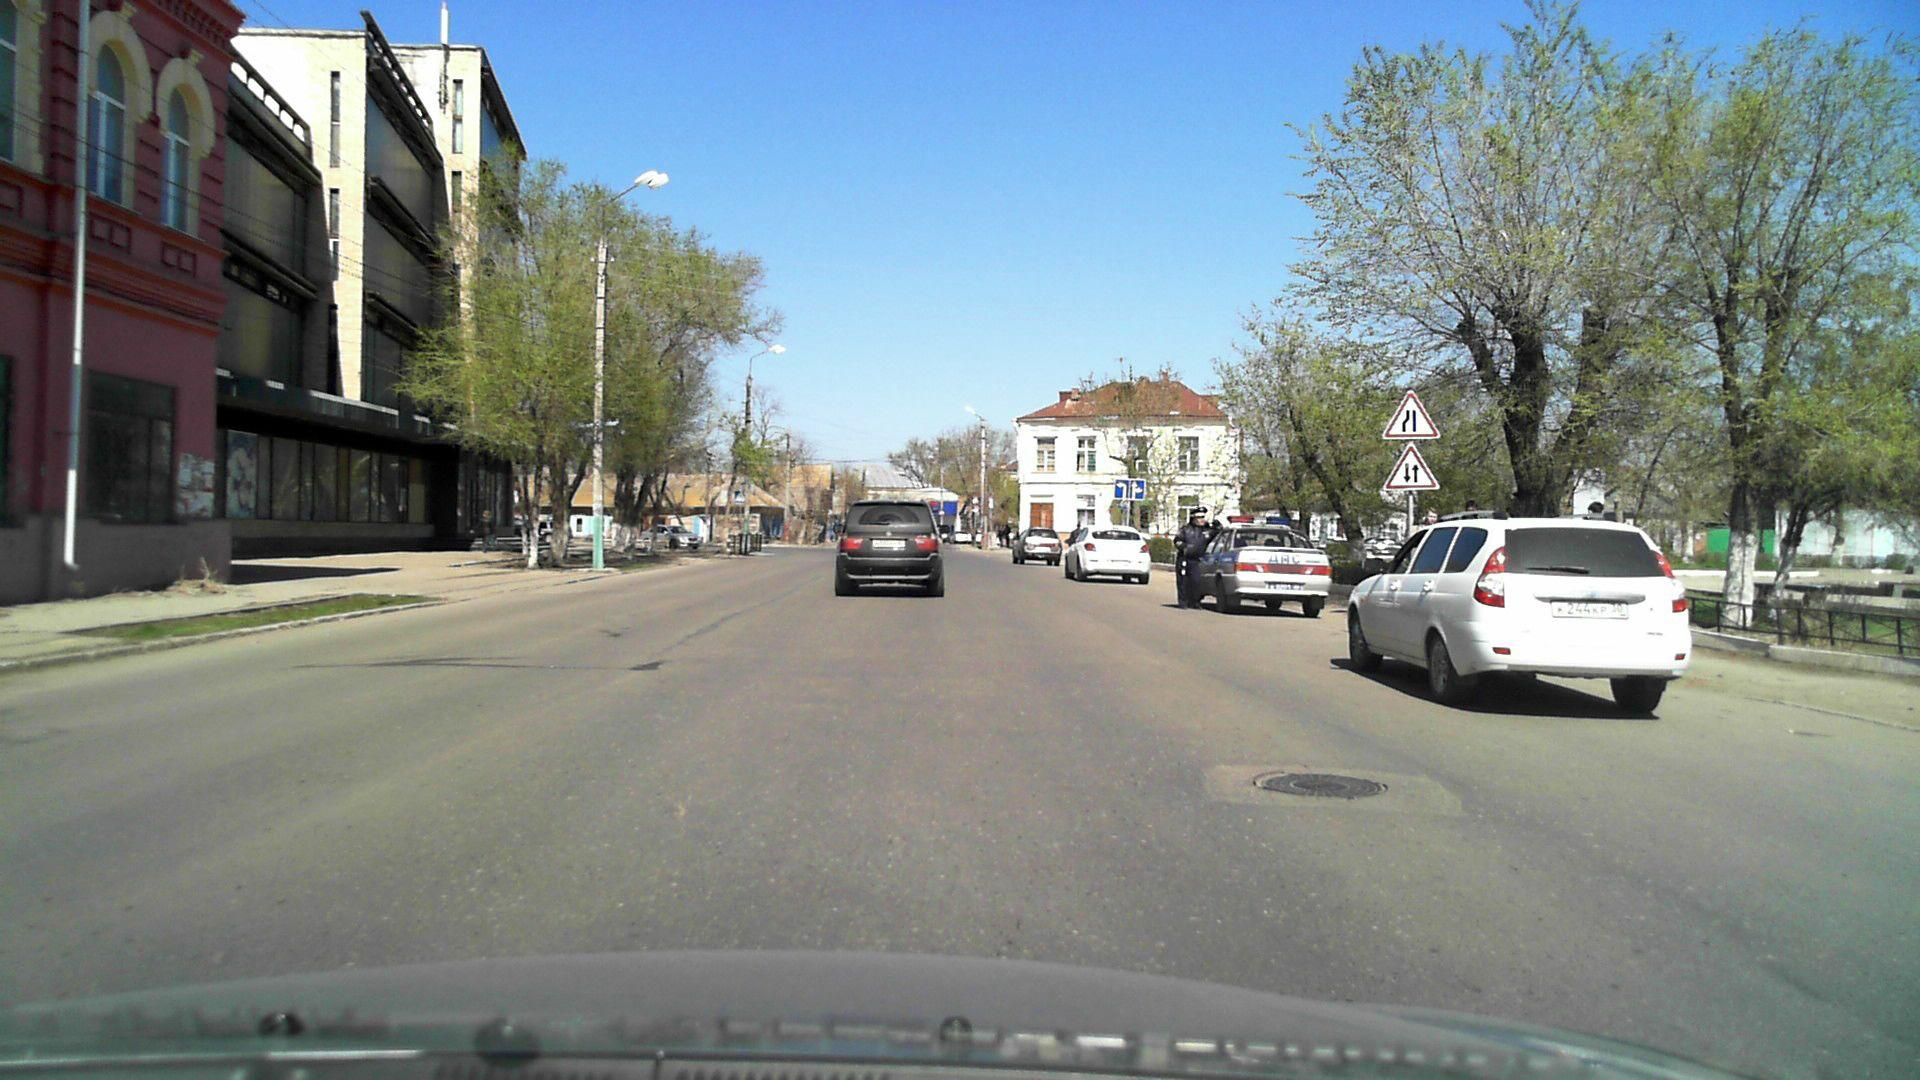1_20_3: (1382, 393, 1440, 439)
1_21: (1386, 444, 1440, 495)
5_15_1: (1113, 476, 1150, 502)
